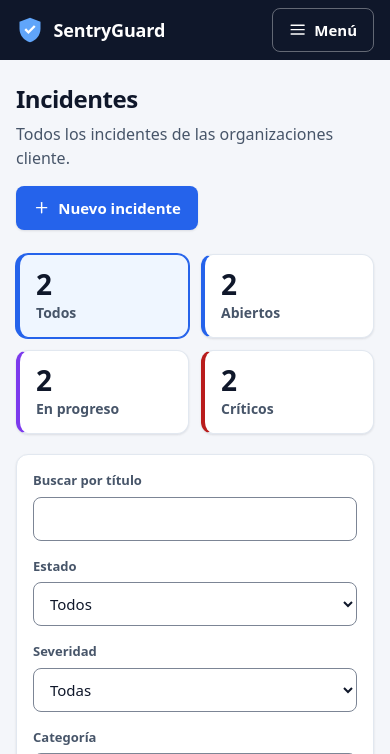
Menú por rol › el menú móvil se despliega con un botón que informa su estado
The width and height of the screenshot is (390, 754).
Click the button "Menú" at {"x": 323, "y": 30}, box [272,8,374,52]
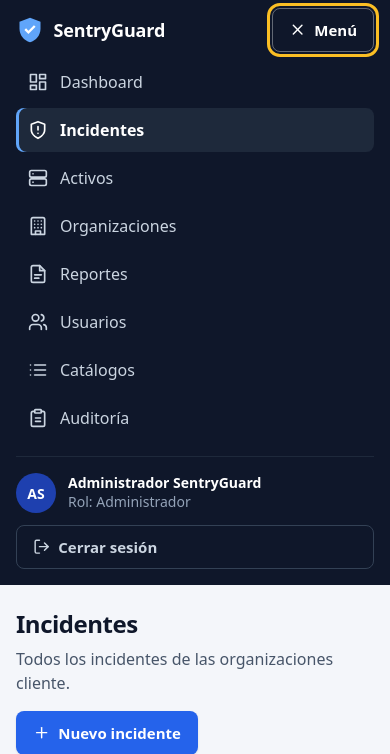
Result: the button "Menú" is expanded at [272,8,374,52]
Result: the link "Auditoría" is shown at [28,407,129,429]
